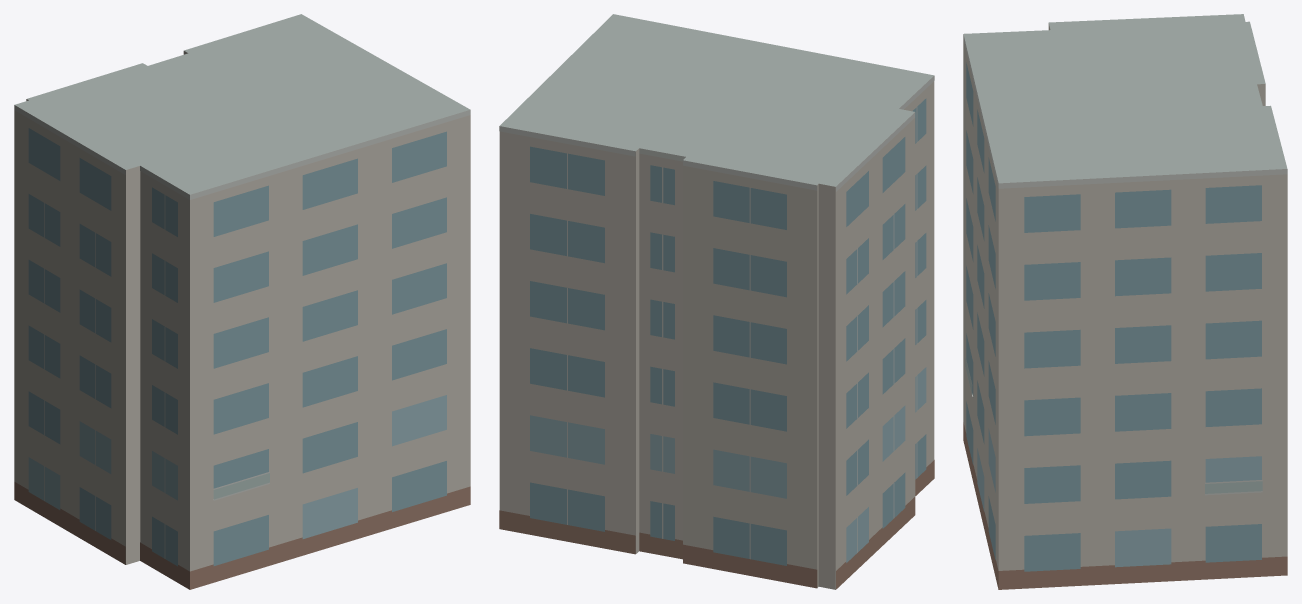
File: survey-upis-32663756.glb
3 views of the same model, side by side, from view 1: azimuth 30°, elevation 25°; view 2: azimuth 150°, elevation 25°; view 3: azimuth 270°, elevation 25° (orthographic). The views are drawn at different scales.
Parts seen in each view (by area): view 1: survey-upis-32663756.tmp; view 2: survey-upis-32663756.tmp; view 3: survey-upis-32663756.tmp.
Part boxes in pixels (x1=…): survey-upis-32663756.tmp: x1=14, y1=14, x2=470, y2=589; survey-upis-32663756.tmp: x1=499, y1=14, x2=934, y2=589; survey-upis-32663756.tmp: x1=963, y1=14, x2=1287, y2=589.
Bounding box in the file's own units: 16.45 × 18.4 × 13.3.
